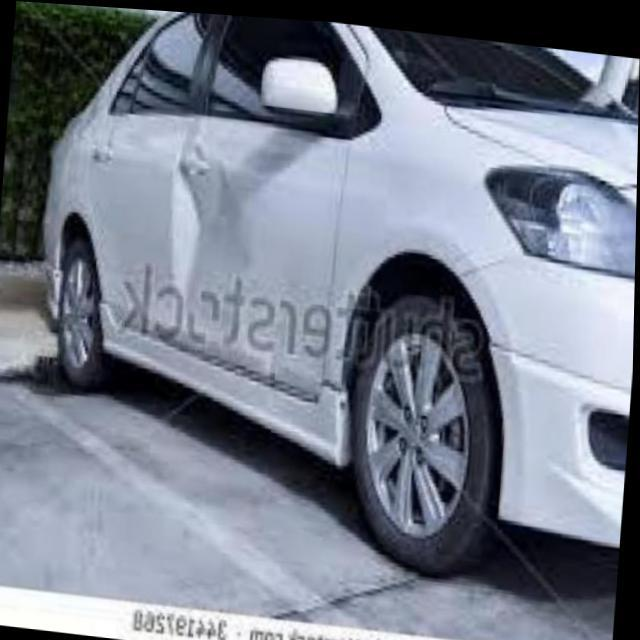dent: (168, 143, 254, 336)
